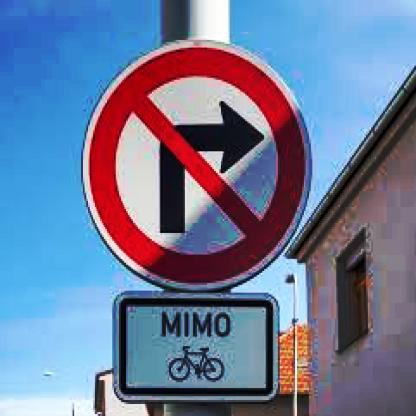No right turn: (90, 46, 300, 288)
